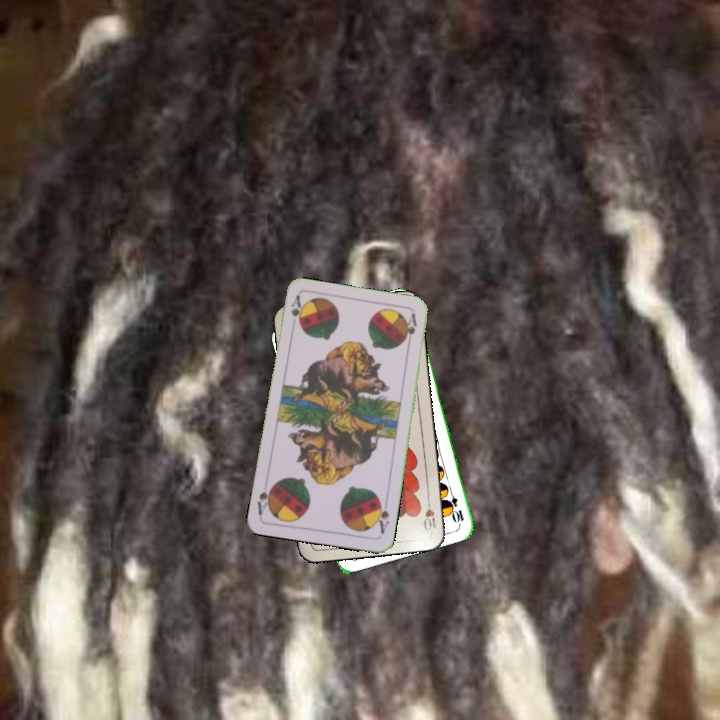E10: (444, 485, 466, 525)
H10: (419, 493, 439, 534)
SA: (371, 496, 392, 536), (287, 292, 304, 332)
